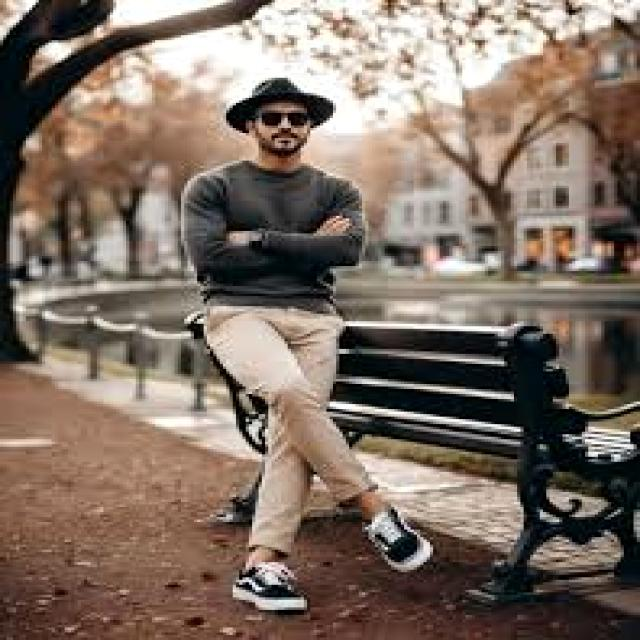hat: (227, 78, 336, 133)
lower-wear: (207, 307, 374, 554)
top-wear: (180, 152, 372, 306)
